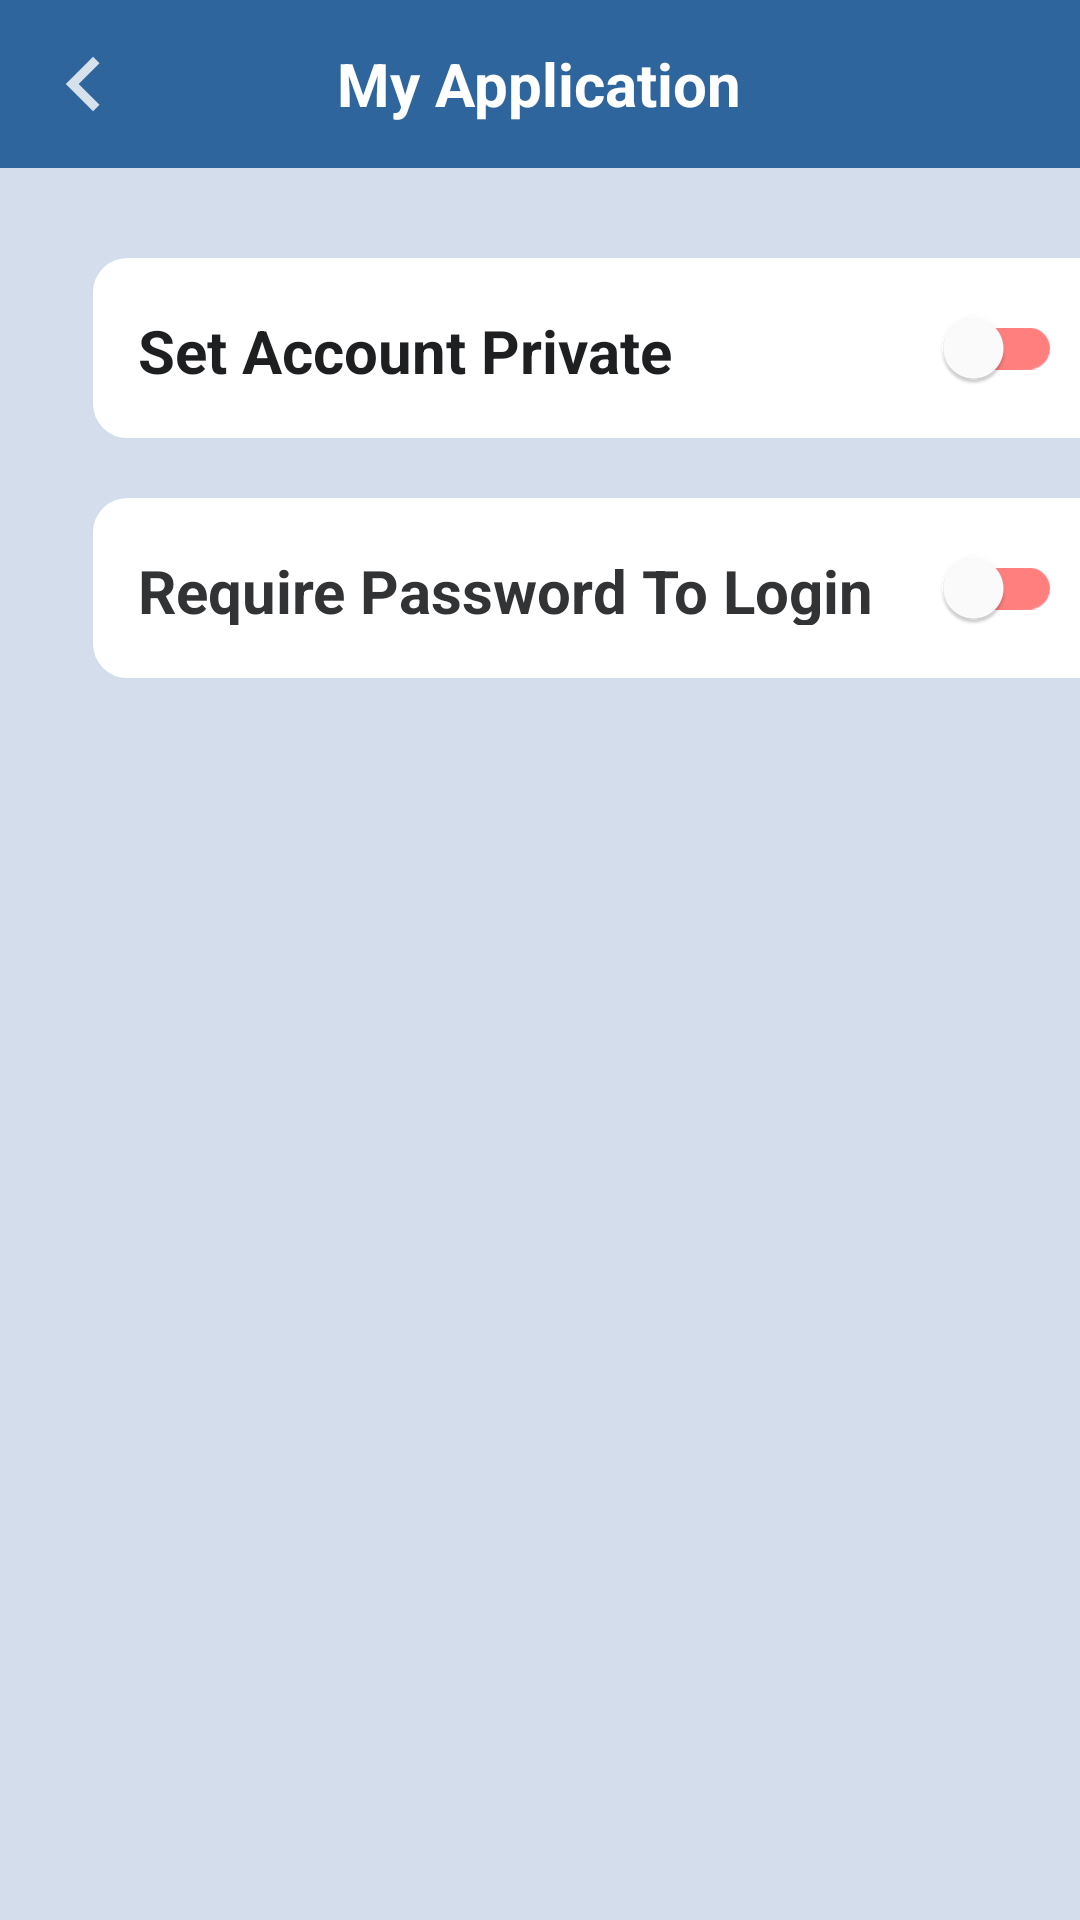

Named icons in this screenshot (1080x1920) and their centers, (x=x, y=y):
back arrow: (x=83, y=84)
